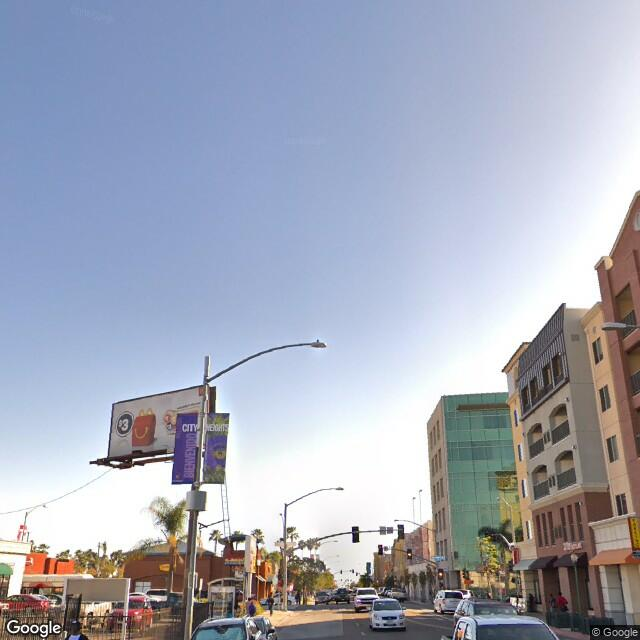light: (307, 337, 327, 350)
window: (603, 433, 620, 464), (597, 389, 611, 417)
